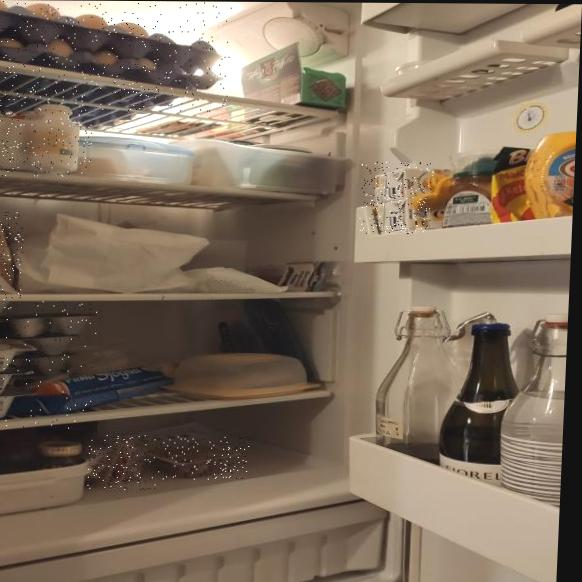bacon: (141, 436, 250, 480), (86, 435, 162, 490)
butter: (359, 162, 434, 234)
cheese: (0, 208, 25, 300)
eggs: (0, 0, 234, 112)
yoghurt: (0, 301, 98, 429), (0, 86, 94, 177)
